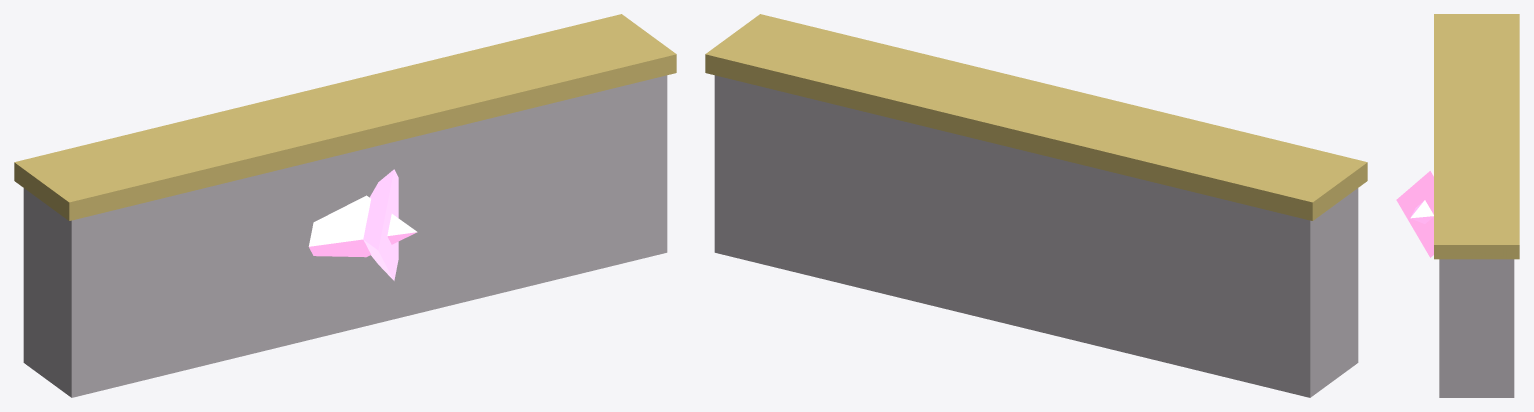
File: Deco_StoneWall_Gem.fbx
The picture shows the model from 3 angles, left to right: view 1: azimuth 30°, elevation 25°; view 2: azimuth 150°, elevation 25°; view 3: azimuth 270°, elevation 25°; orthographic projection. The views are drawn at different scales.
Parts seen in each view (by area): view 1: Deco_StoneWall_Gem_Main, Deco_StoneWall_Gem_Cap, Deco_StoneWall_Gem_GemTop, Deco_StoneWall_Gem_GemBottom; view 2: Deco_StoneWall_Gem_Main, Deco_StoneWall_Gem_Cap; view 3: Deco_StoneWall_Gem_Cap, Deco_StoneWall_Gem_Main, Deco_StoneWall_Gem_GemBottom, Deco_StoneWall_Gem_GemTop.
Boxes of the visible parts, x1,y1,x2,y2 form: Deco_StoneWall_Gem_Main: (23, 75, 667, 397); Deco_StoneWall_Gem_Cap: (14, 14, 676, 220); Deco_StoneWall_Gem_GemTop: (308, 195, 417, 257); Deco_StoneWall_Gem_GemBottom: (363, 169, 398, 280); Deco_StoneWall_Gem_Main: (714, 75, 1358, 397); Deco_StoneWall_Gem_Cap: (705, 14, 1367, 220); Deco_StoneWall_Gem_Cap: (1434, 14, 1519, 259); Deco_StoneWall_Gem_Main: (1439, 259, 1514, 397); Deco_StoneWall_Gem_GemBottom: (1396, 170, 1433, 257); Deco_StoneWall_Gem_GemTop: (1410, 200, 1433, 223).
Bounding box in the file's own units: 1.02 × 0.32 × 0.2304.
